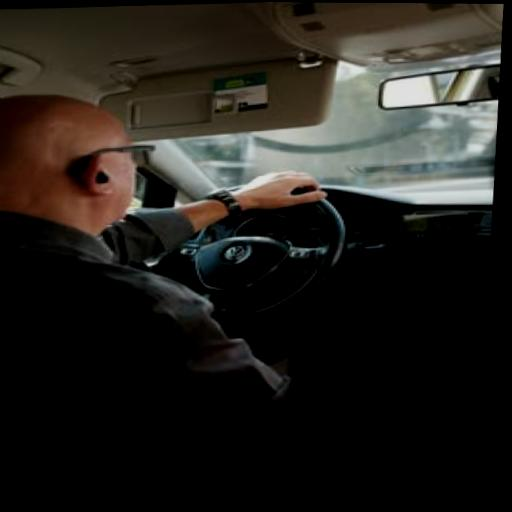Hands-on-the-Wheel: (183, 151, 349, 230)
